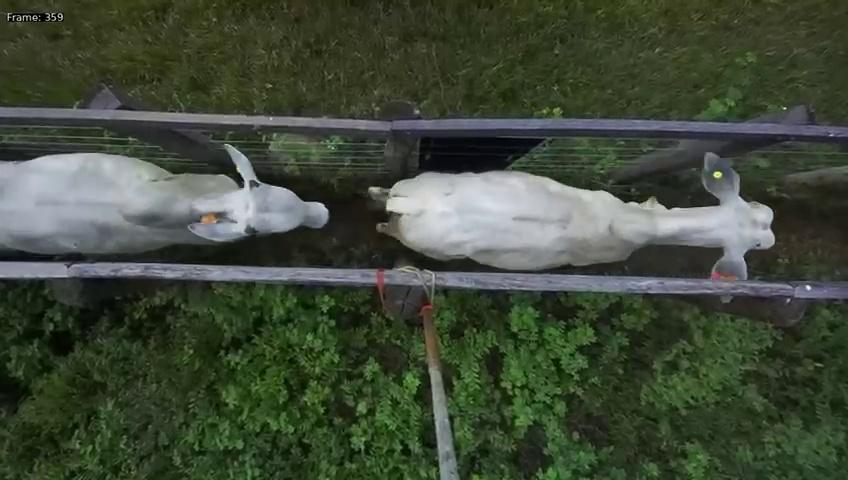cattle: (369, 139, 777, 280), (0, 139, 330, 262)
